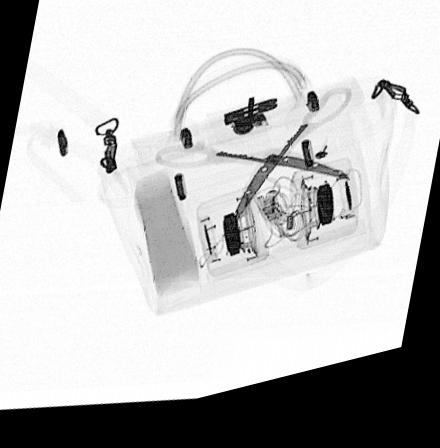Scissors: (152, 103, 352, 237)
